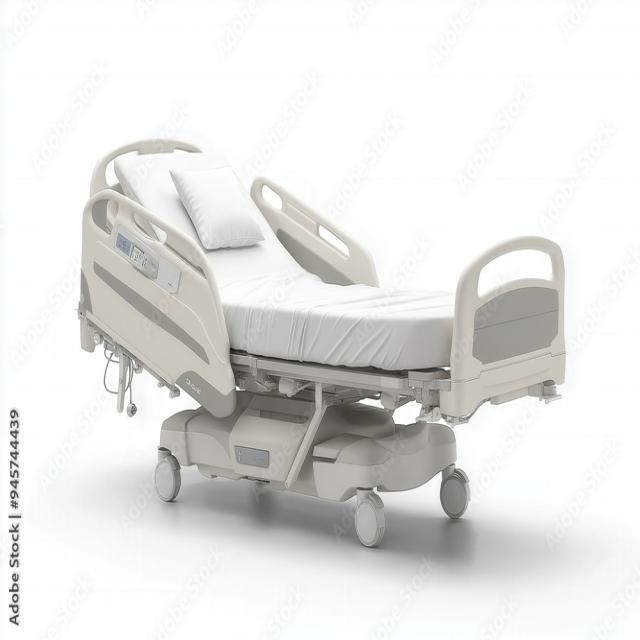bed: (76, 135, 566, 548)
